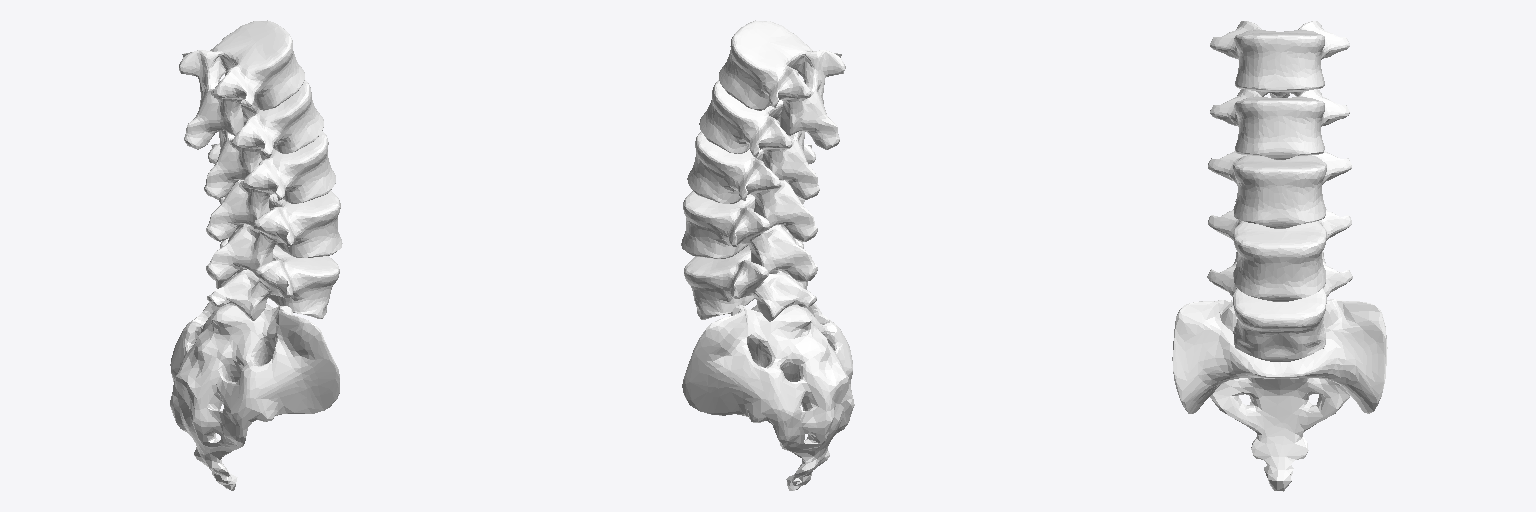
The robot description file, URDF, robot "skeleton_trunk":
<?xml version="1.0"?>
<robot name="skeleton_trunk">
  <material name="White"> <!-- for bones -->
    <color rgba="1 1 1 1"/>
  </material>
  <material name="Red"> <!-- for boxes -->
    <color rgba="1 0 0 1"/>
  </material>
  <material name="Green"> <!-- for roms -->
    <color rgba="0 1 0.1 0.2"/>
  </material>

  <link name="base_link"/>
  <joint name="base_link_J" type="fixed">
      <parent link="base_link"/>
      <child link="base_link_comshift"/>
      <origin rpy="0 0 0" xyz="0 0 0"/>
   </joint>

<link name="base_link_comshift"/>
  <joint name="base_link_comshift_J" type="fixed">
      <parent link="base_link_comshift"/>
      <child link="Pelvis"/>
      <origin rpy="0 0 0" xyz="-0.1 0 -0.04"/>
   </joint>

  <link name="Pelvis">
      <inertial>
         <origin rpy="0 0 0" xyz="0 0 0"/>
         <mass value="8.4552"/>
         <inertia ixx="0" ixy="0" ixz="0" iyy="0" iyz="0" izz="0"/>
      </inertial>
      <visual>
         <origin xyz="0 0 0" rpy="0 0 0"/>
         <geometry>
            <mesh filename="package://hpp-rbprm-corba/meshes/skeleton/pelvis_box.stl"/>
         </geometry>
         <material name="Red"/>
      </visual>
      <collision>
         <origin xyz="0 0 0" rpy="0 0 0"/>
         <geometry>
            <mesh filename="package://hpp-rbprm-corba/meshes/skeleton/pelvis_box.stl"/>
         </geometry>
      </collision>
   </link>


   <joint name="pelvis_rfoot_rom_joint" type="fixed">
      <parent link="Pelvis"/>
      <child link="pelvis_rfoot_rom"/>
      <origin rpy="0 0 0" xyz="0 0 0"/>
   </joint>

  <link name="pelvis_rfoot_rom">
      <visual>
         <origin xyz="0 0 0" rpy="0 0 0"/>
         <geometry>
            <mesh filename="package://hpp-rbprm-corba/meshes/skeleton/rfoot_rom.stl"/>
         </geometry>
         <material name="Green"/>
      </visual>
   </link>-->

  <joint name="pelvis_lfoot_rom_joint" type="fixed">
      <parent link="Pelvis"/>
      <child link="pelvis_lfoot_rom"/>
      <origin rpy="0 0 0" xyz="0 0 0"/>
   </joint>

  <link name="pelvis_lfoot_rom">
      <visual>
         <origin xyz="0 0 0" rpy="0 0 0"/>
         <geometry>
            <mesh filename="package://hpp-rbprm-corba/meshes/skeleton/lfoot_rom.stl"/>
         </geometry>
         <material name="Green"/>
      </visual>
   </link>


   <link name="PelvisSacrum_J1"/>
   <link name="PelvisSacrum_J2"/>
   <link name="Sacrum">
      <inertial>
         <origin rpy="0 0 0" xyz="-0.0255 0 0.028333"/>
         <mass value="0"/>
         <inertia ixx="0" ixy="0" ixz="0" iyy="0" iyz="0" izz="0"/>
      </inertial>
      <visual>
         <origin xyz="-0.0255 0 0.028333" rpy="0 0 0"/>
         <geometry>
            <mesh filename="package://hpp-rbprm-corba/meshes/skeleton/Sacrum.stl"/>
         </geometry>
         <material name="White"/>
      </visual>
   </link>
   <link name="SacrumL5_J1"/>
   <link name="SacrumL5_J2"/>
   <link name="L5">
      <inertial>
         <origin rpy="0 0 0" xyz="0.0075556 0 0.013222"/>
         <mass value="0"/>
         <inertia ixx="0" ixy="0" ixz="0" iyy="0" iyz="0" izz="0"/>
      </inertial>
      <visual>
         <origin xyz="0.0075556 0 0.013222" rpy="0 0 0"/>
         <geometry>
            <mesh filename="package://hpp-rbprm-corba/meshes/skeleton/L5.stl"/>
         </geometry>
         <material name="White"/>
      </visual>
   </link>
   <link name="L5L4_J1"/>
   <link name="L5L4_J2"/>
   <link name="L4">
      <inertial>
         <origin rpy="0 0 0" xyz="0.0056667 0 0.016056"/>
         <mass value="0"/>
         <inertia ixx="0" ixy="0" ixz="0" iyy="0" iyz="0" izz="0"/>
      </inertial>
      <visual>
         <origin xyz="0.0056667 0 0.016056" rpy="0 0 0"/>
         <geometry>
            <mesh filename="package://hpp-rbprm-corba/meshes/skeleton/L4.stl"/>
         </geometry>
         <material name="White"/>
      </visual>
   </link>
   <link name="L4L3_J1"/>
   <link name="L4L3_J2"/>
   <link name="L3">
      <inertial>
         <origin rpy="0 0 0" xyz="0.00094444 0 0.017"/>
         <mass value="0"/>
         <inertia ixx="0" ixy="0" ixz="0" iyy="0" iyz="0" izz="0"/>
      </inertial>
      <visual>
         <origin xyz="0.00094444 0 0.017" rpy="0 0 0"/>
         <geometry>
            <mesh filename="package://hpp-rbprm-corba/meshes/skeleton/L3.stl"/>
         </geometry>
         <material name="White"/>
      </visual>
   </link>
   <link name="L3L2_J1"/>
   <link name="L3L2_J2"/>
   <link name="L2">
      <inertial>
         <origin rpy="0 0 0" xyz="-0.00094444 0 0.015111"/>
         <mass value="0"/>
         <inertia ixx="0" ixy="0" ixz="0" iyy="0" iyz="0" izz="0"/>
      </inertial>
      <visual>
         <origin xyz="-0.00094444 0 0.015111" rpy="0 0 0"/>
         <geometry>
            <mesh filename="package://hpp-rbprm-corba/meshes/skeleton/L2.stl"/>
         </geometry>
         <material name="White"/>
      </visual>
   </link>
   <link name="L2L1_J1"/>
   <link name="L2L1_J2"/>
   <link name="L1">
      <inertial>
         <origin rpy="0 0 0" xyz="-0.0028333 0 0.015111"/>
         <mass value="0"/>
         <inertia ixx="0" ixy="0" ixz="0" iyy="0" iyz="0" izz="0"/>
      </inertial>
      <visual>
         <origin xyz="-0.0028333 0 0.015111" rpy="0 0 0"/>
         <geometry>
            <mesh filename="package://hpp-rbprm-corba/meshes/skeleton/L1.stl"/>
         </geometry>
         <material name="White"/>
      </visual>
   </link>
   <link name="L1Thorax_J1"/>
   <link name="L1Thorax_J2"/>
   <link name="ThoraxShift"/>
   <link name="Thorax">
      <inertial>
         <origin rpy="0 0 0" xyz="0.035889 0 0.14072"/>
         <mass value="19.8372"/>
         <inertia ixx="-0.16485" ixy="0.25777" ixz="0.0015499" iyy="0.20309" iyz="-0.0061998" izz="-0.18263"/>
      </inertial>
      <visual>
         <origin xyz="0 0 0" rpy="0 0 0"/>
         <geometry>
            <mesh filename="package://hpp-rbprm-corba/meshes/skeleton/thorax_box.stl"/>
         </geometry>
         <material name="Red"/>
      </visual>
      <collision>
         <origin xyz="0 0 0" rpy="0 0 0"/>
         <geometry>
            <mesh filename="package://hpp-rbprm-corba/meshes/skeleton/thorax_box.stl"/>
         </geometry>
      </collision>
   </link>


   <joint name="thorax_rhand_rom_joint" type="fixed">
      <parent link="ThoraxShift"/>
      <child link="thorax_rhand_rom"/>
      <origin rpy="0 0 0" xyz="0 0 0"/>
   </joint>

  <link name="thorax_rhand_rom">
      <visual>
         <origin xyz="0.034 0.006 0.14" rpy="0 0 0"/>
         <geometry>
            <mesh filename="package://hpp-rbprm-corba/meshes/skeleton/rhand_rom.stl"/>
         </geometry>
         <material name="Green"/>
      </visual>
   </link>

  <joint name="thorax_lhand_rom_joint" type="fixed">
      <parent link="ThoraxShift"/>
      <child link="thorax_lhand_rom"/>
      <origin rpy="0 0 0" xyz="0 0 0"/>
   </joint>

  <link name="thorax_lhand_rom">
      <visual>
         <origin xyz="0.034 -0.006 0.14" rpy="0 0 0"/>
         <geometry>
            <mesh filename="package://hpp-rbprm-corba/meshes/skeleton/lhand_rom.stl"/>
         </geometry>
         <material name="Green"/>
      </visual>
   </link>

   <link name="ThoraxSkull_J1"/>
   <link name="ThoraxSkull_J2"/>
   <link name="Skull">
      <inertial>
         <origin rpy="0 0 0" xyz="0 0 0"/>
         <mass value="4.2276"/>
         <inertia ixx="0.0071027" ixy="-0.00059867" ixz="-2.9564e-05" iyy="0.0046194" iyz="6.6519e-05" izz="0.0080488"/>
      </inertial>
      <visual>
         <origin xyz="0 0 0" rpy="0 0 0"/>
         <geometry>
            <mesh filename="package://hpp-rbprm-corba/meshes/skeleton/skull_box.stl"/>
         </geometry>
         <material name="Red"/>
      </visual>
      <collision>
         <origin xyz="0 0 0" rpy="0 0 0"/>
         <geometry>
            <mesh filename="package://hpp-rbprm-corba/meshes/skeleton/skull_box.stl"/>
         </geometry>
      </collision>
   </link>

   <joint name="A_PelvisSacrum_J1" type="revolute"> <!-- A_ added for order while parsing with ROS -->
      <parent link="Pelvis"/>
      <child link="PelvisSacrum_J1"/>
      <origin rpy="0 0 0" xyz="-0.010389 0 0.018889"/>
      <axis xyz="1 0 0"/>
      <limit effort="0" lower="-0.2" upper="0.2" velocity="1.0"/>
   </joint>
   <joint name="PelvisSacrum_J2" type="revolute">
      <parent link="PelvisSacrum_J1"/>
      <child link="PelvisSacrum_J2"/>
      <origin rpy="0 0 0" xyz="0 0 0"/>
      <axis xyz="0 0 1"/>
      <limit effort="0" lower="-0.2" upper="0.2" velocity="1.0"/>
   </joint>
   <joint name="Sacrum" type="revolute">
      <parent link="PelvisSacrum_J2"/>
      <child link="Sacrum"/>
      <origin rpy="0 0 0" xyz="0 0 0"/>
      <axis xyz="0 1 0"/>
      <limit effort="0" lower="-0.1" upper="0.3" velocity="1.0"/>
   </joint>
   <joint name="SacrumL5_J1" type="fixed">
      <parent link="Sacrum"/>
      <child link="SacrumL5_J1"/>
      <origin rpy="0 0 0" xyz="0.015111 0 0.023611"/>
   </joint>
   <joint name="SacrumL5_J2" type="fixed">
      <parent link="SacrumL5_J1"/>
      <child link="SacrumL5_J2"/>
      <origin rpy="0 0 0" xyz="0 0 0"/>
   </joint>
   <joint name="L5" type="fixed">
      <parent link="SacrumL5_J2"/>
      <child link="L5"/>
      <origin rpy="0 0 0" xyz="0 0 0"/>
   </joint>
   <joint name="L5L4_J1" type="fixed">
      <parent link="L5"/>
      <child link="L5L4_J1"/>
      <origin rpy="0 0 0" xyz="0.0066111 0 0.030222"/>
   </joint>
   <joint name="L5L4_J2" type="fixed">
      <parent link="L5L4_J1"/>
      <child link="L5L4_J2"/>
      <origin rpy="0 0 0" xyz="0 0 0"/>
   </joint>
   <joint name="L4" type="fixed">
      <parent link="L5L4_J2"/>
      <child link="L4"/>
      <origin rpy="0 0 0" xyz="0 0 0"/>
   </joint>
   <joint name="L4L3_J1" type="fixed">
      <parent link="L4"/>
      <child link="L4L3_J1"/>
      <origin rpy="0 0 0" xyz="0 0 0.032111"/>
   </joint>
   <joint name="L4L3_J2" type="fixed">
      <parent link="L4L3_J1"/>
      <child link="L4L3_J2"/>
      <origin rpy="0 0 0" xyz="0 0 0"/>
   </joint>
   <joint name="L3" type="fixed">
      <parent link="L4L3_J2"/>
      <child link="L3"/>
      <origin rpy="0 0 0" xyz="0 0 0"/>
   </joint>
   <joint name="L3L2_J1" type="fixed">
      <parent link="L3"/>
      <child link="L3L2_J1"/>
      <origin rpy="0 0 0" xyz="-0.0056667 0 0.031167"/>
   </joint>
   <joint name="L3L2_J2" type="fixed">
      <parent link="L3L2_J1"/>
      <child link="L3L2_J2"/>
      <origin rpy="0 0 0" xyz="0 0 0"/>
   </joint>
   <joint name="L2" type="fixed">
      <parent link="L3L2_J2"/>
      <child link="L2"/>
      <origin rpy="0 0 0" xyz="0 0 0"/>
   </joint>
   <joint name="L2L1_J1" type="fixed">
      <parent link="L2"/>
      <child link="L2L1_J1"/>
      <origin rpy="0 0 0" xyz="-0.0094444 0 0.027389"/>
   </joint>
   <joint name="L2L1_J2" type="fixed">
      <parent link="L2L1_J1"/>
      <child link="L2L1_J2"/>
      <origin rpy="0 0 0" xyz="0 0 0"/>
   </joint>
   <joint name="L1" type="fixed">
      <parent link="L2L1_J2"/>
      <child link="L1"/>
      <origin rpy="0 0 0" xyz="0 0 0"/>
   </joint>
   <joint name="L1Thorax_J1" type="revolute">
      <parent link="L1"/>
      <child link="L1Thorax_J1"/>
      <origin rpy="0 0 0" xyz="-0.011333 0 0.029278"/>
      <axis xyz="1 0 0"/>
      <limit effort="0" lower="-0.3" upper="0.3" velocity="1.0"/>
   </joint>
   <joint name="L1Thorax_J2" type="revolute">
      <parent link="L1Thorax_J1"/>
      <child link="L1Thorax_J2"/>
      <origin rpy="0 0 0" xyz="0 0 0"/>
      <axis xyz="0 0 1"/>
      <limit effort="0" lower="-1.5" upper="1.5" velocity="1.0"/>
   </joint>
   <joint name="Thorax" type="revolute">
      <parent link="L1Thorax_J2"/>
      <child link="ThoraxShift"/>
      <origin rpy="0 0 0" xyz="0 0 0"/>
      <axis xyz="0 1 0"/>
      <limit effort="0" lower="-0.6" upper="0.7" velocity="1.0"/>
   </joint>
   <joint name="ThoraxShift" type="fixed">
      <parent link="ThoraxShift"/>
      <child link="Thorax"/>
      <origin rpy="0 0 0" xyz="0.035889 0 0.14072"/> <!-- origin shift moved from link to joint -->
   </joint>
   <joint name="A_ThoraxSkull_J1" type="revolute"> <!-- A_ added for order while parsing with ROS -->
      <parent link="ThoraxShift"/>
      <child link="ThoraxSkull_J1"/>
      <origin rpy="0 0 0" xyz="0.0037778 0 0.42122"/>
      <axis xyz="1 0 0"/>
      <limit effort="0" lower="-0.3" upper="0.3" velocity="1.0"/>
   </joint>
   <joint name="ThoraxSkull_J2" type="revolute">
      <parent link="ThoraxSkull_J1"/>
      <child link="ThoraxSkull_J2"/>
      <origin rpy="0 0 0" xyz="0 0 0"/>
      <axis xyz="0 0 1"/>
      <limit effort="0" lower="-1.4" upper="1.4" velocity="1.0"/>
   </joint>
   <joint name="Skull" type="revolute">
      <parent link="ThoraxSkull_J2"/>
      <child link="Skull"/>
      <origin rpy="0 0 0" xyz="0 0 0"/>
      <axis xyz="0 1 0"/>
      <limit effort="0" lower="-1.1" upper="0.4" velocity="1.0"/>
   </joint>
</robot>

--- What the picture shows (computed from the rendered views, not written in the file) ---
The picture shows the robot from 3 angles, left to right: view 1: azimuth 30°, elevation 25°; view 2: azimuth 150°, elevation 25°; view 3: azimuth 270°, elevation 25°; orthographic projection.
Robot: skeleton_trunk — 32 links, 31 joints (9 revolute, 22 fixed); root link base_link; default pose: every joint at zero.
Visible links, largest first — view 1: Sacrum, L1, L4, L3, L2, L5; view 2: Sacrum, L1, L4, L3, L2, L5; view 3: Sacrum, L4, L3, L1, L5, L2.
Boxes of the visible links, box(x1,y1,x2,y2) form: Sacrum: box(170, 281, 339, 490); L1: box(179, 20, 304, 149); L4: box(206, 191, 342, 280); L3: box(206, 131, 335, 241); L2: box(204, 80, 323, 199); L5: box(207, 238, 339, 320); Sacrum: box(682, 282, 854, 490); L1: box(719, 20, 845, 149); L4: box(681, 191, 817, 281); L3: box(687, 131, 817, 241); L2: box(699, 80, 819, 199); L5: box(684, 239, 816, 321); Sacrum: box(1172, 299, 1387, 491); L4: box(1208, 199, 1351, 301); L3: box(1208, 150, 1351, 228); L1: box(1210, 21, 1349, 97); L5: box(1207, 251, 1352, 361); L2: box(1210, 89, 1349, 159).
Bounding box of the posed robot: 0.0865 × 0.0995 × 0.2453 m (x, y, z).
6 mesh visuals loaded from 13 distinct referenced files (6 binary STL); not drawn: 7 (reference not matched to a file when rendering).